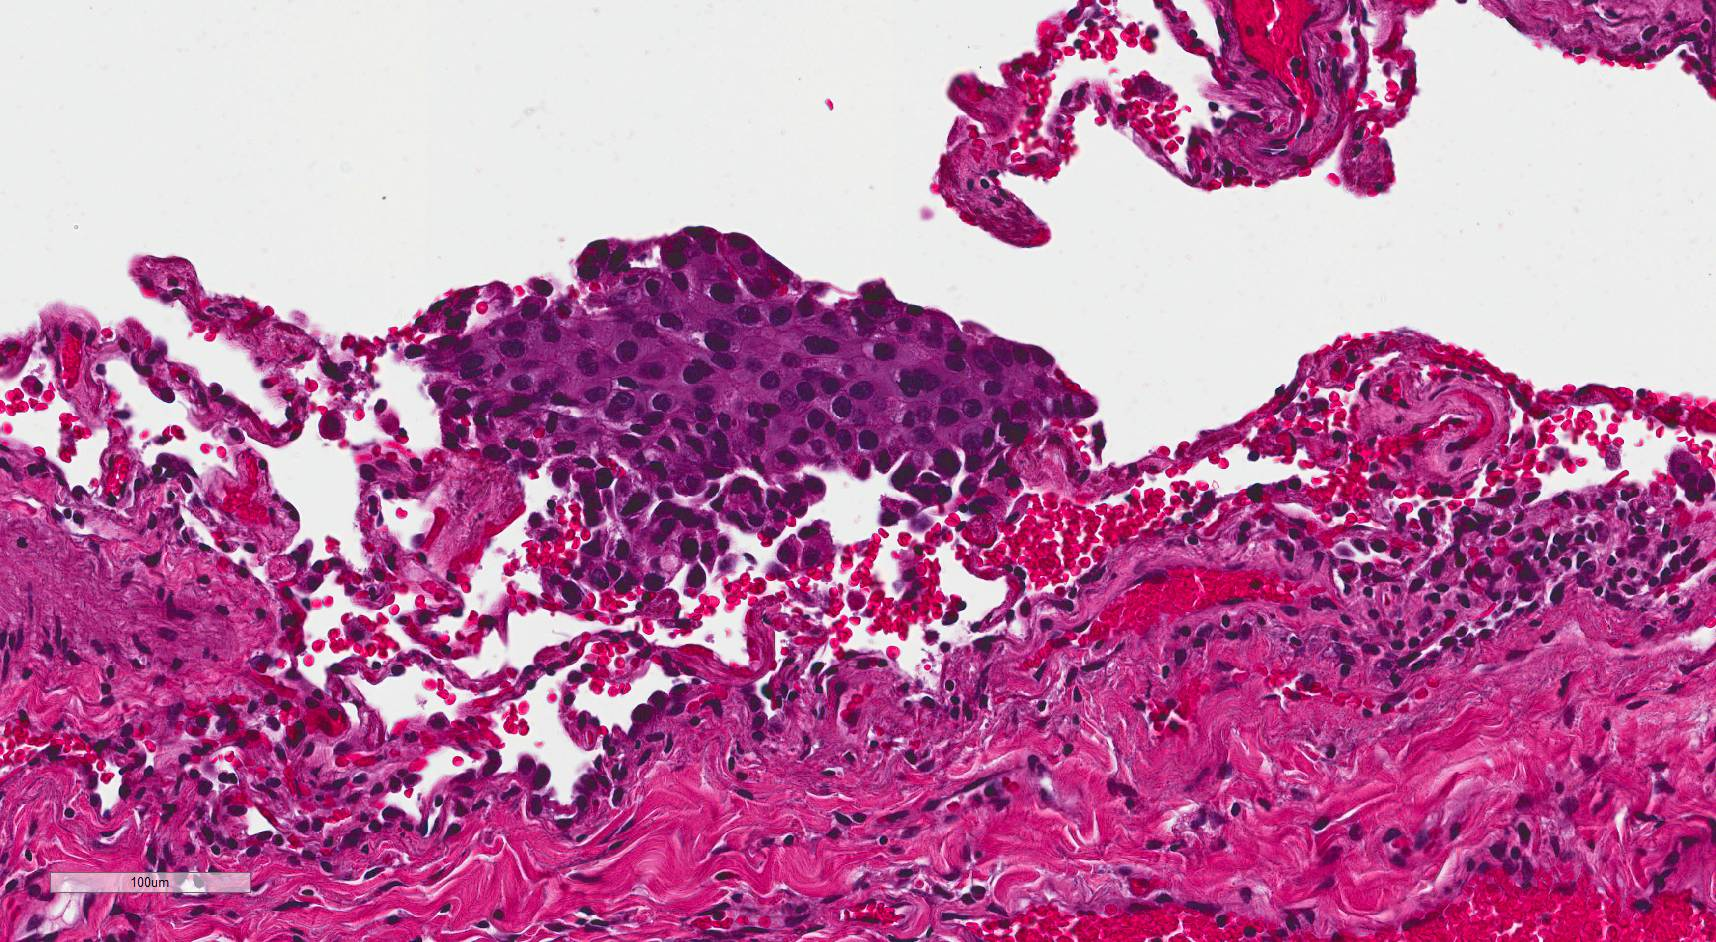stas: (412, 224, 1099, 602)
